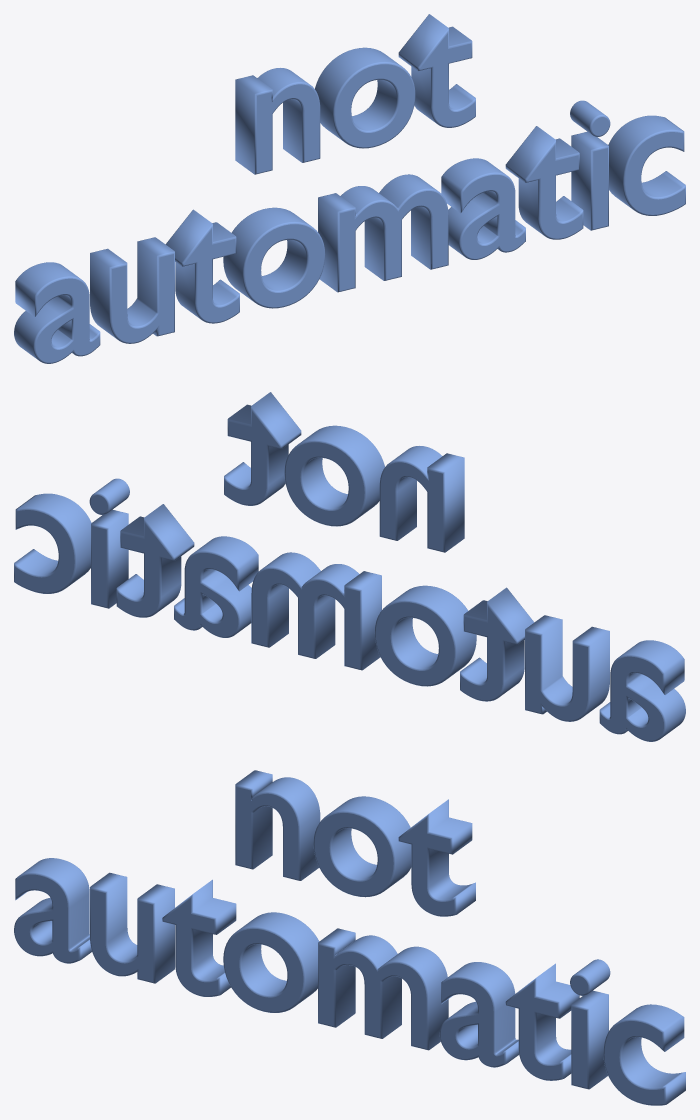
The model's file is touch3.glb.
3 renders of one model, top to bottom at view 1: azimuth 30°, elevation 25°; view 2: azimuth 150°, elevation 25°; view 3: azimuth 330°, elevation 25°, orthographic.
Visible parts, largest first — view 1: Text; view 2: Text; view 3: Text.
Part boxes in pixels (bbox=[...]): Text: bbox=[14, 14, 685, 363]; Text: bbox=[14, 392, 685, 741]; Text: bbox=[14, 770, 685, 1105].
Bounding box in the file's own units: 3.96 × 1.38 × 0.22.
